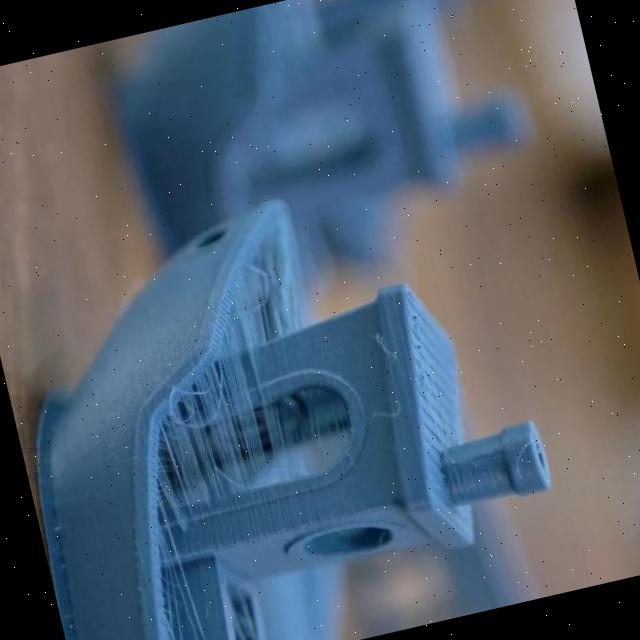stringing: (140, 302, 281, 516), (126, 431, 216, 640)
